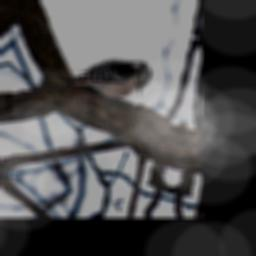Woodpecker: (63, 43, 153, 119)
